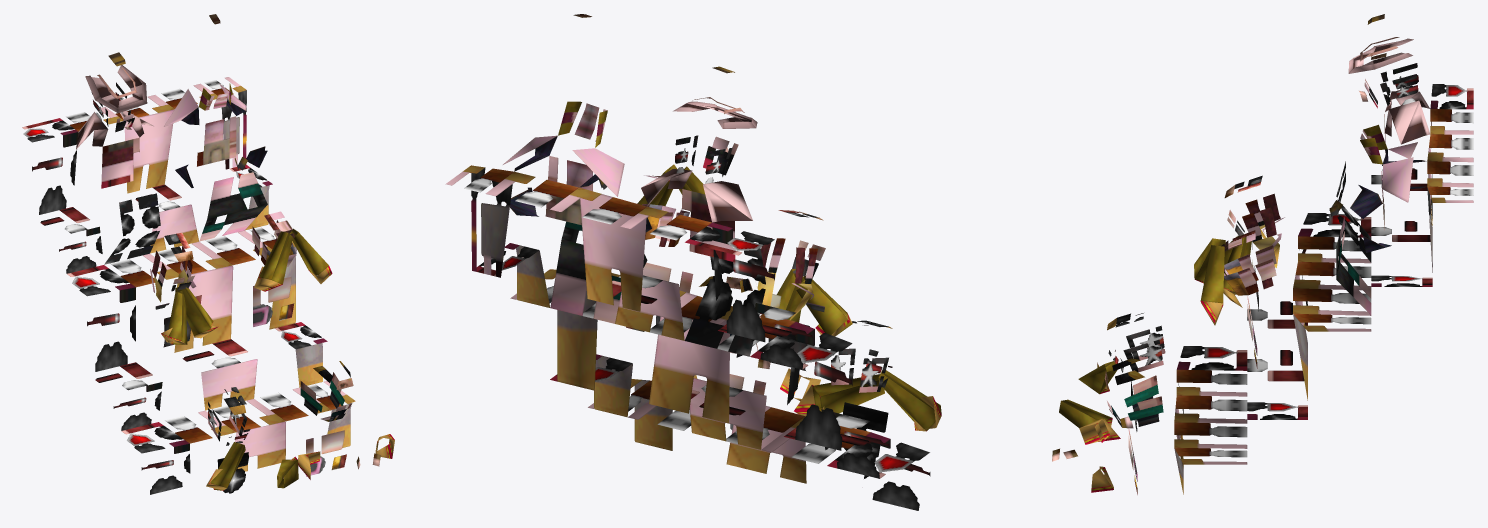
The picture shows the model from 3 angles, left to right: view 1: azimuth 30°, elevation 25°; view 2: azimuth 150°, elevation 25°; view 3: azimuth 270°, elevation 25°; orthographic projection. The views are drawn at different scales.
Parts seen in each view (by area): view 1: T1L9M004_15; view 2: T1L9M004_15; view 3: T1L9M004_15.
Part boxes in pixels (left/top/right/bottom): T1L9M004_15: left=22, top=14, right=394, bottom=494; T1L9M004_15: left=445, top=14, right=941, bottom=510; T1L9M004_15: left=1052, top=14, right=1473, bottom=494.
Size of the model in its own units: 0.9816 by 1.64 by 1.48.
